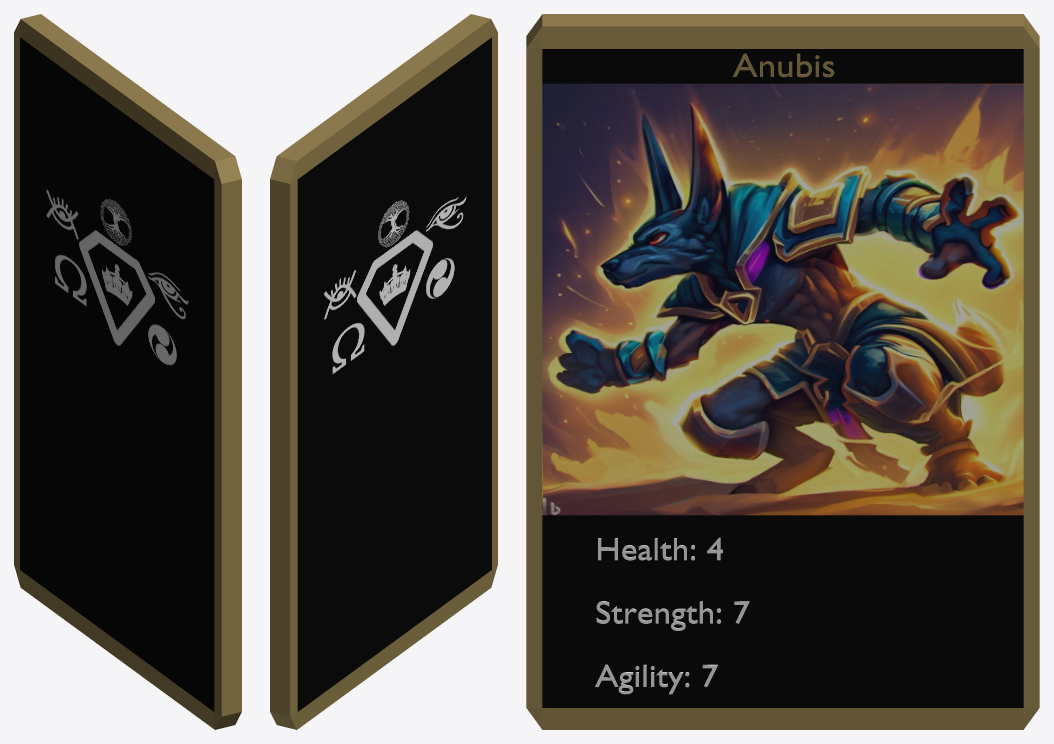
The model's file is Anubis.fbx.
3 views of the same model, side by side, from view 1: azimuth 30°, elevation 25°; view 2: azimuth 150°, elevation 25°; view 3: azimuth 270°, elevation 25° (orthographic). The views are drawn at different scales.
Visible parts, largest first — view 1: Anubis; view 2: Anubis; view 3: Anubis.
Boxes of the visible parts, box(x1,y1,x2,y2) form: Anubis: box(14, 14, 241, 729); Anubis: box(270, 14, 497, 729); Anubis: box(526, 14, 1039, 729).
Size of the model in its own units: 20.45 by 482 by 319.
5 materials, 2 textured.
